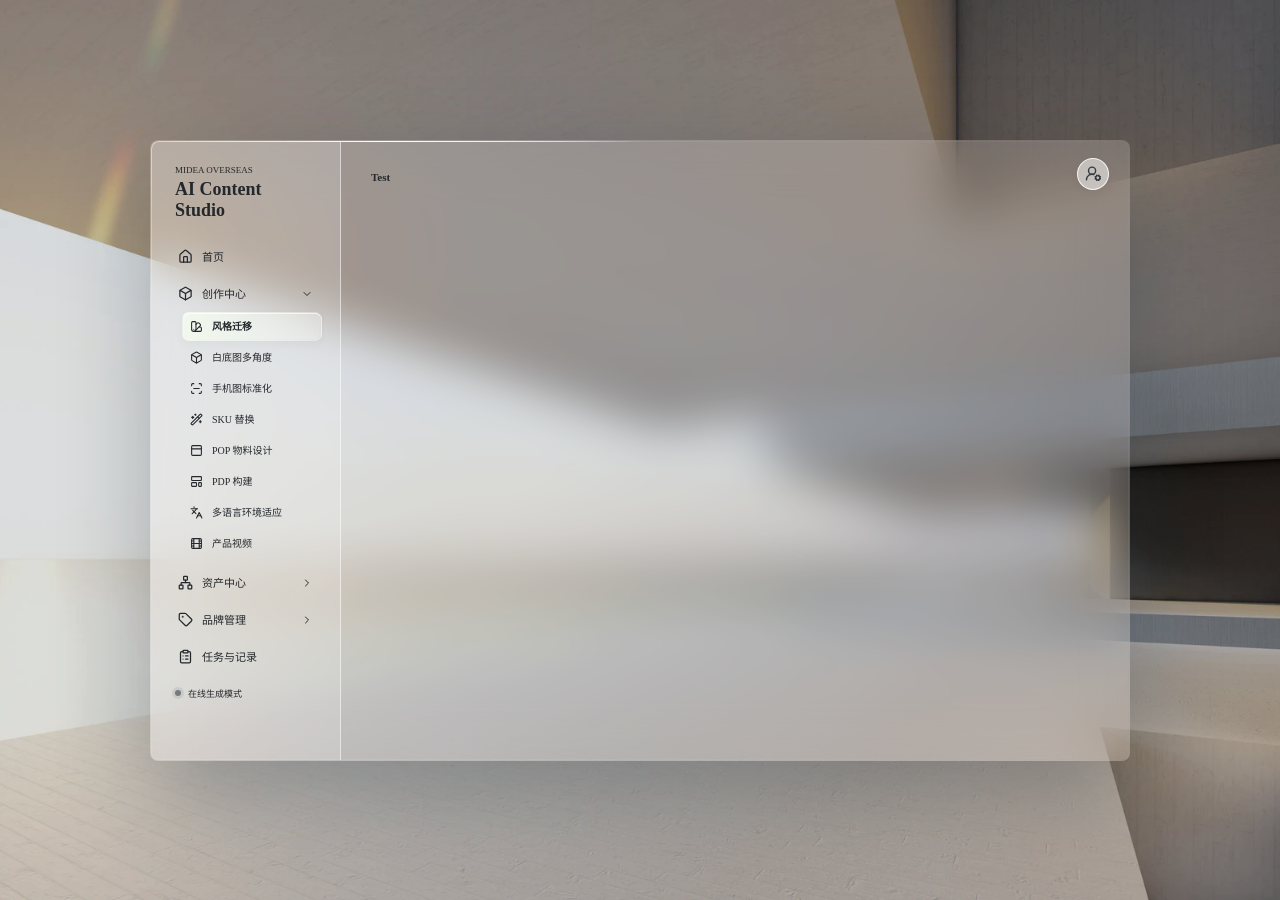
Scenario: shared user settings › saves market defaults and restores focus when closed
The image size is (1280, 900).
Click the button named "用户设置": (1093, 174) top-left (1077, 158), bottom-right (1109, 190)
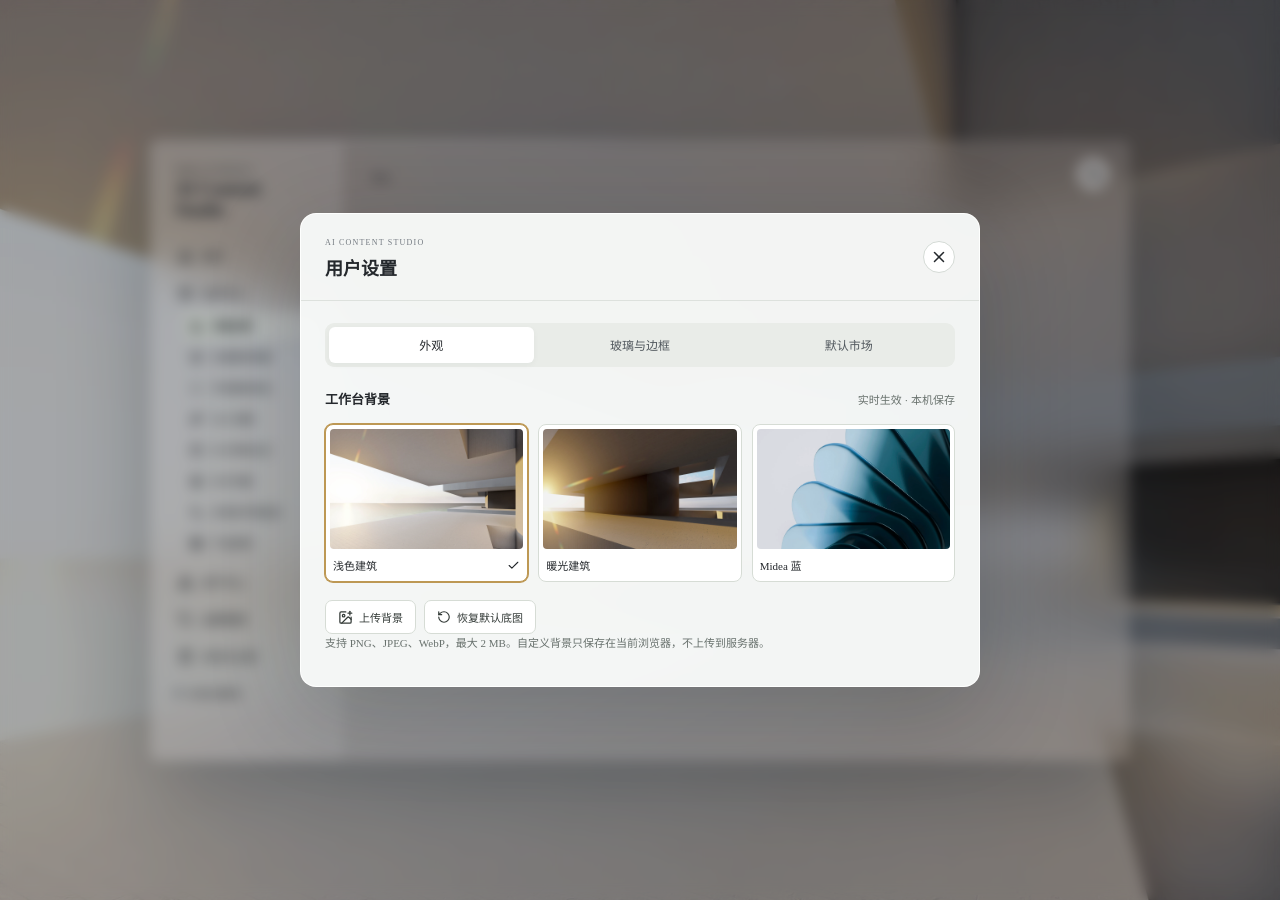
Click the tab "默认市场": (849, 345) top-left (746, 327), bottom-right (951, 363)
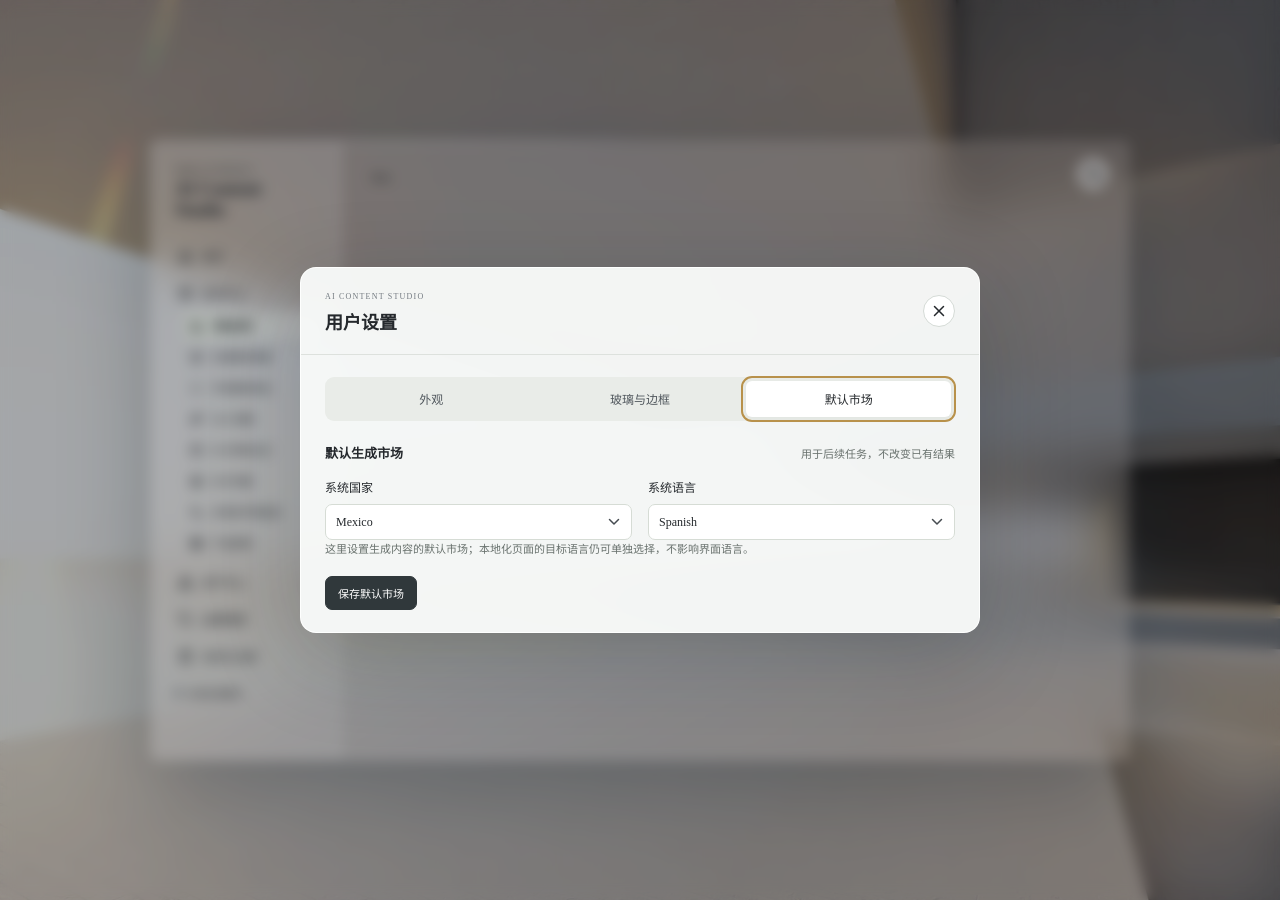
Expected: the dropdown labelled "系统国家" is enabled
Select "Brazil" in the dropdown labelled "系统国家": (478, 522) top-left (325, 504), bottom-right (632, 540)
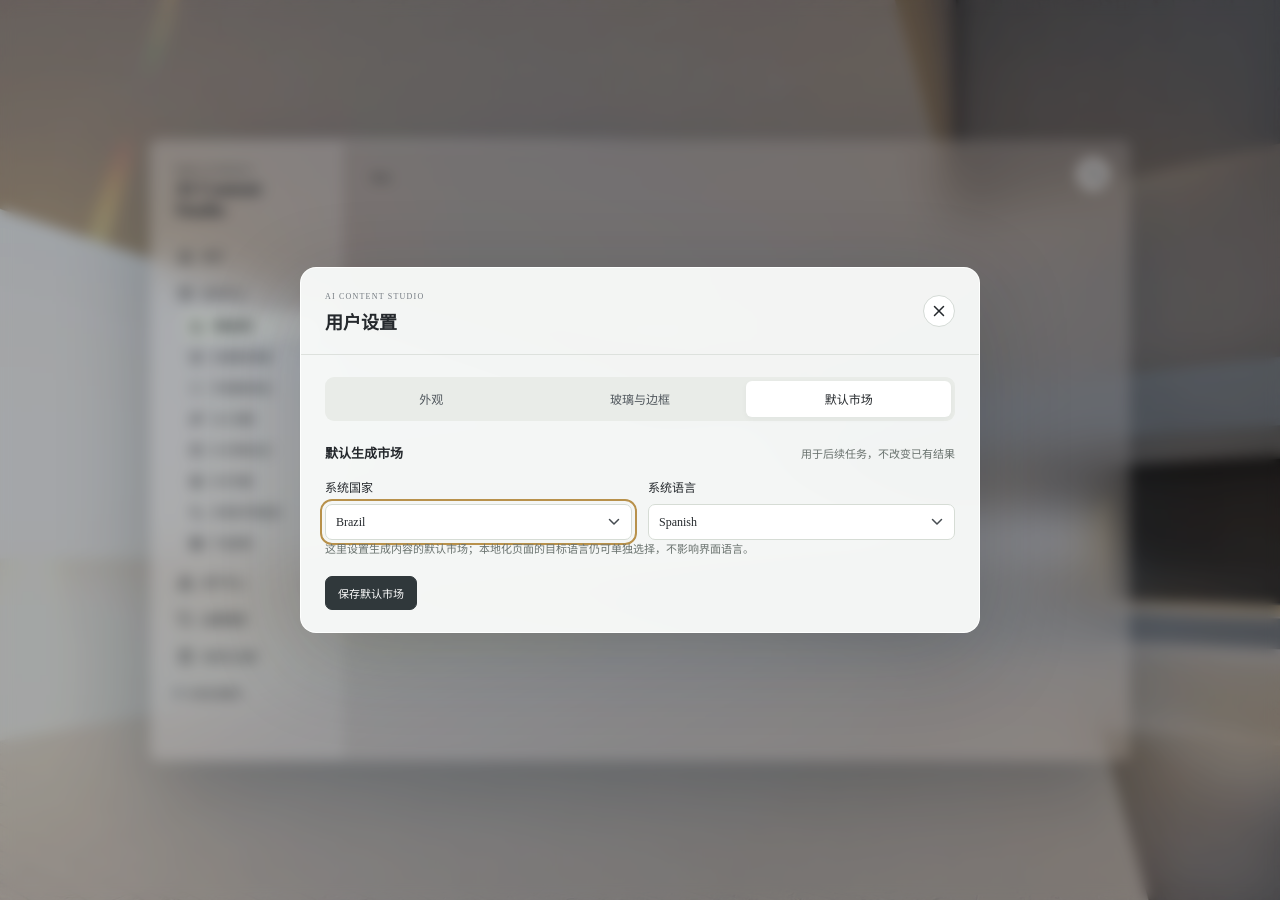
Select "Portuguese" in the dropdown labelled "系统语言": (802, 522) top-left (648, 504), bottom-right (955, 540)
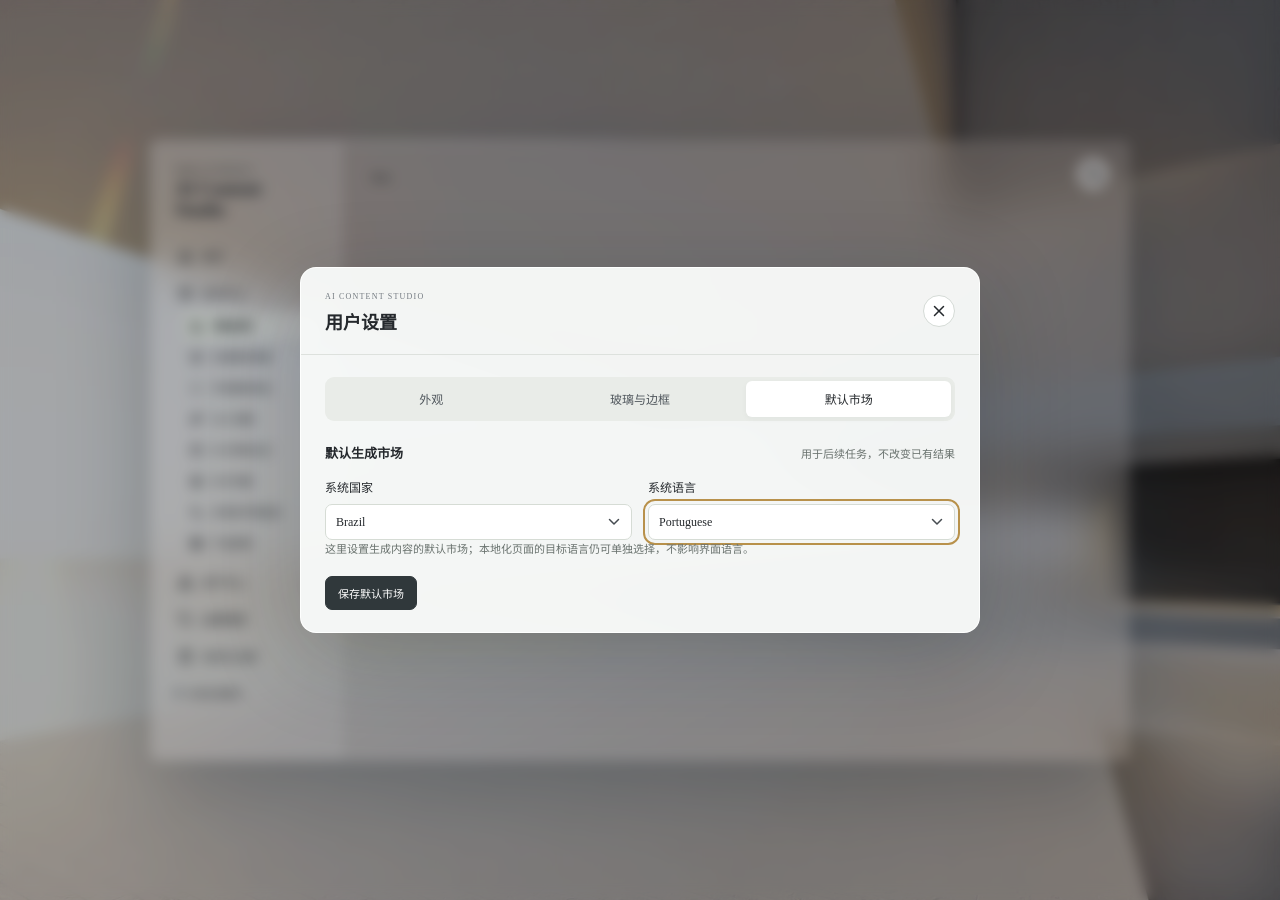
Click the button "保存默认市场": (371, 593) top-left (325, 576), bottom-right (417, 610)
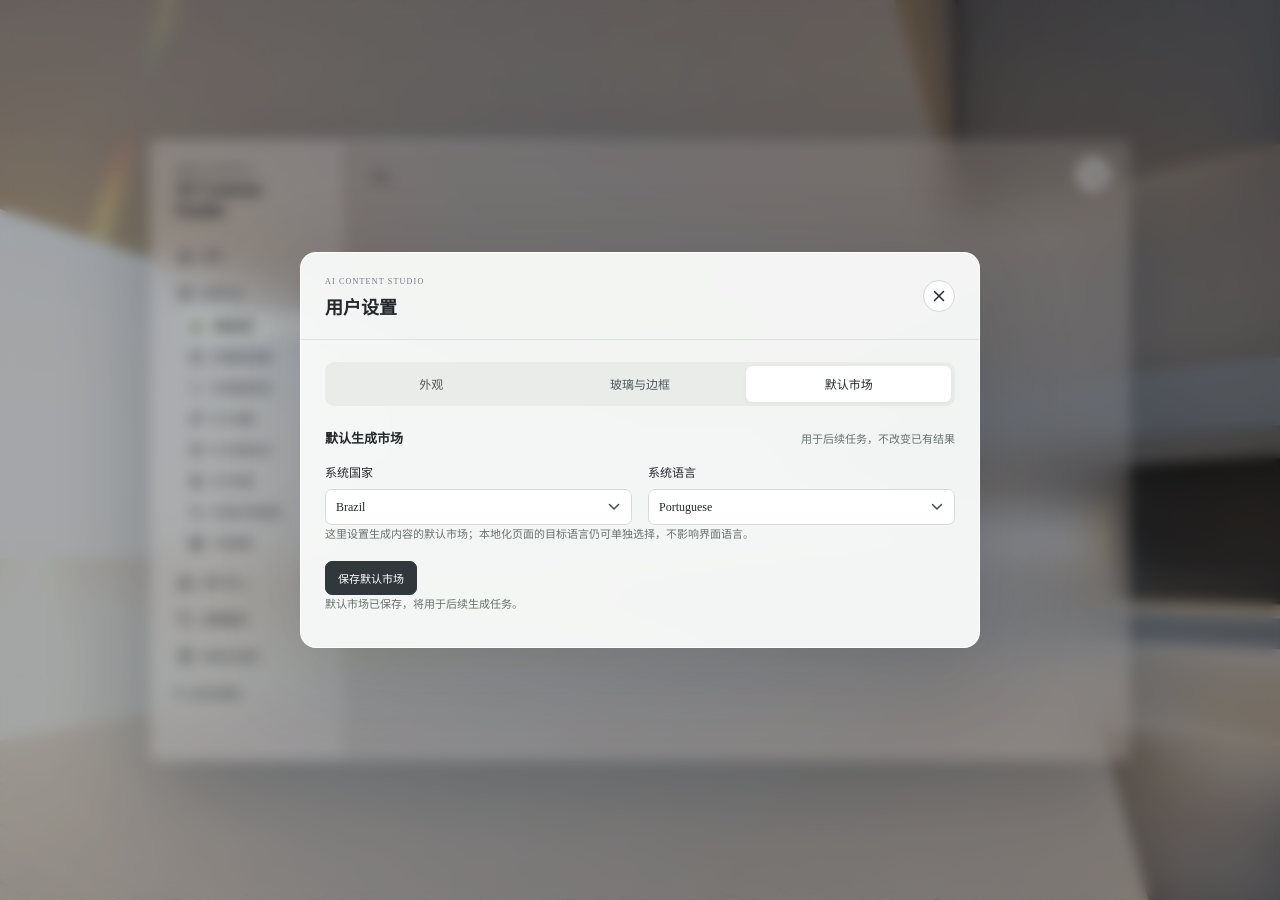
Expected: the text "默认市场已保存，将用于后续生成任务。" is shown, top-left (325, 598), bottom-right (523, 610)
Press Escape
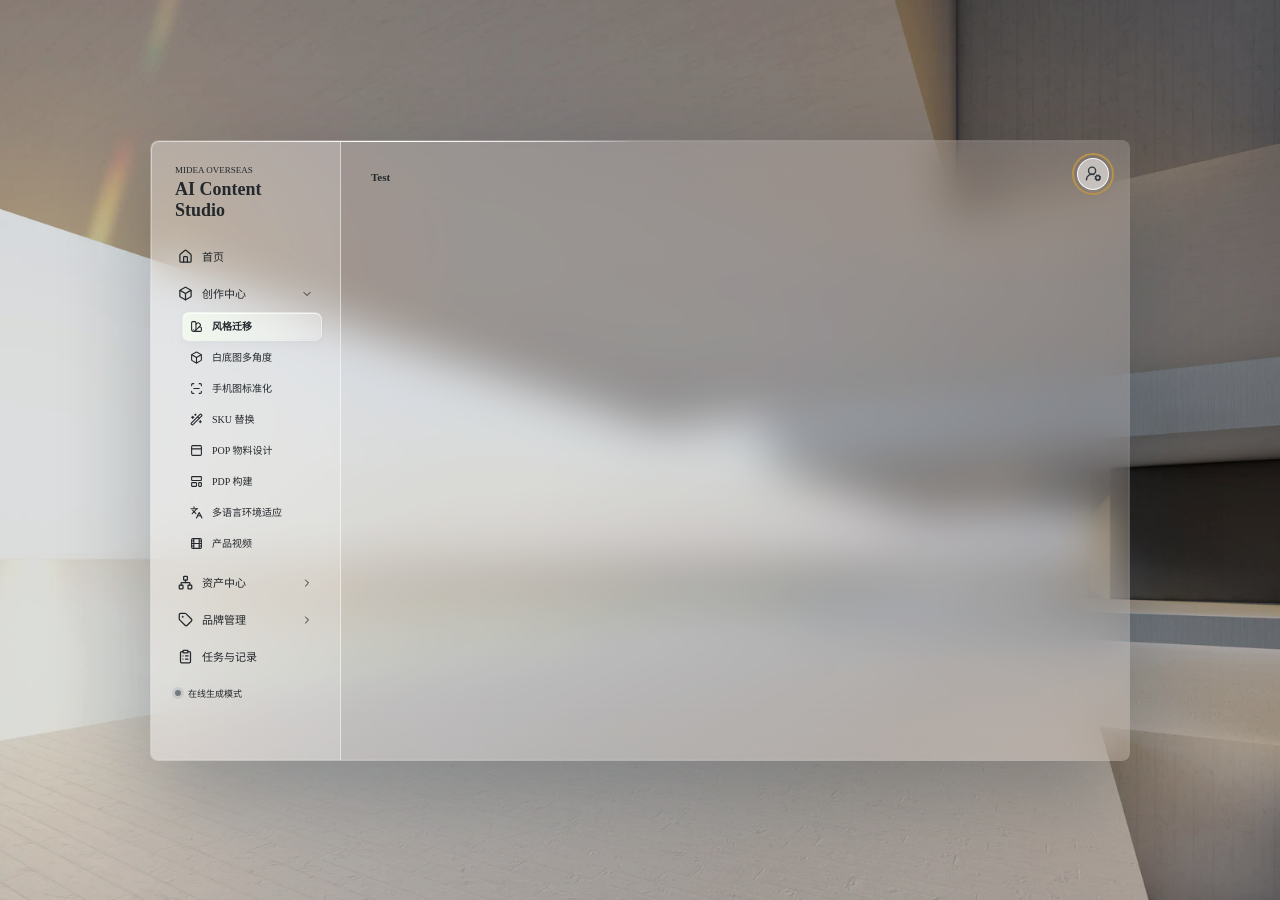
Expected: the dialog is gone
